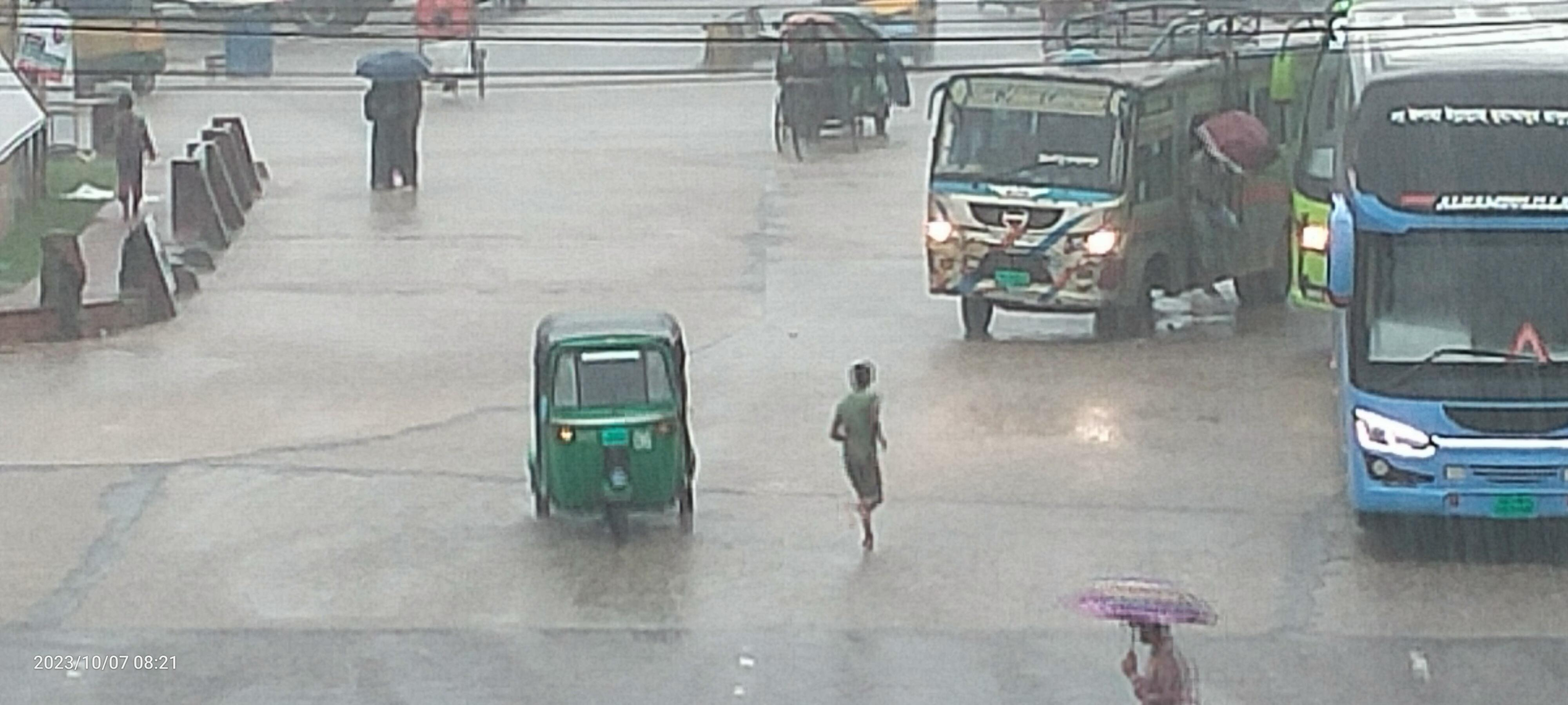Bus: (1301, 8, 1568, 573), (881, 22, 1292, 374)
Car: (746, 0, 881, 186), (394, 0, 508, 119)
